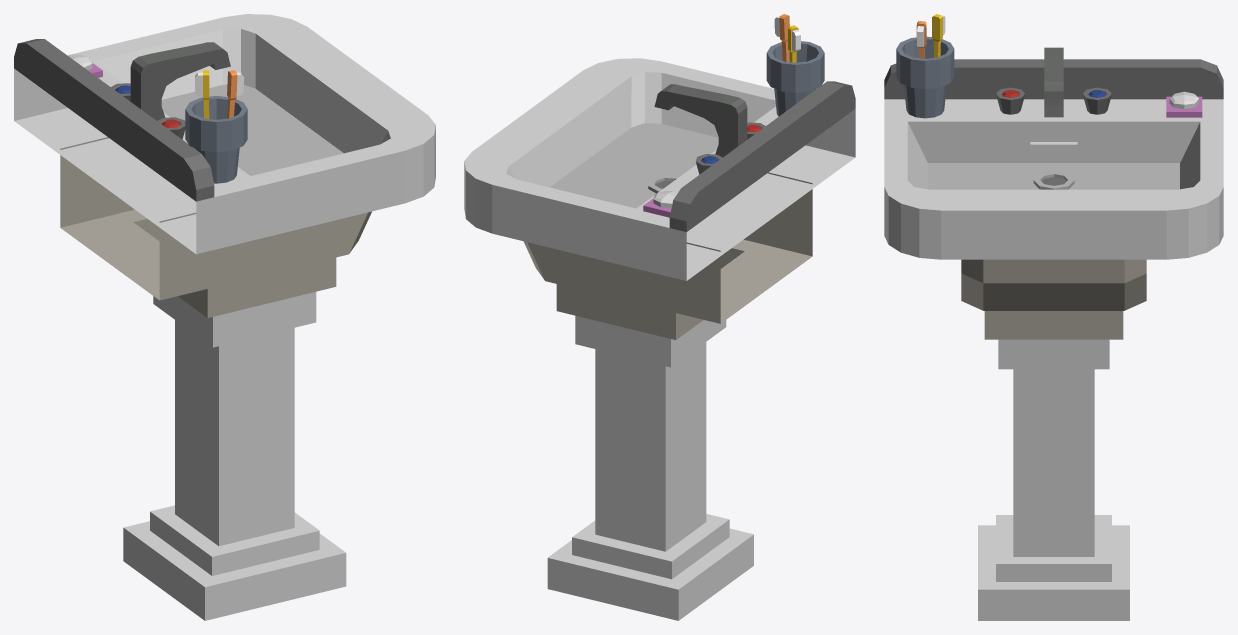
Rendered from SM_Sink_01.glb.
3 views of the same model, side by side, from view 1: azimuth 30°, elevation 25°; view 2: azimuth 150°, elevation 25°; view 3: azimuth 270°, elevation 25° (orthographic). The views are drawn at different scales.
Visible parts, largest first — view 1: SM_Sink_01; view 2: SM_Sink_01; view 3: SM_Sink_01.
Part boxes in pixels (left/top/right/bottom): SM_Sink_01: left=14, top=14, right=435, bottom=620; SM_Sink_01: left=464, top=14, right=855, bottom=620; SM_Sink_01: left=884, top=14, right=1223, bottom=620.
Bounding box in the file's own units: 0.5655 × 1.18 × 0.679.
1 material, 1 textured.
